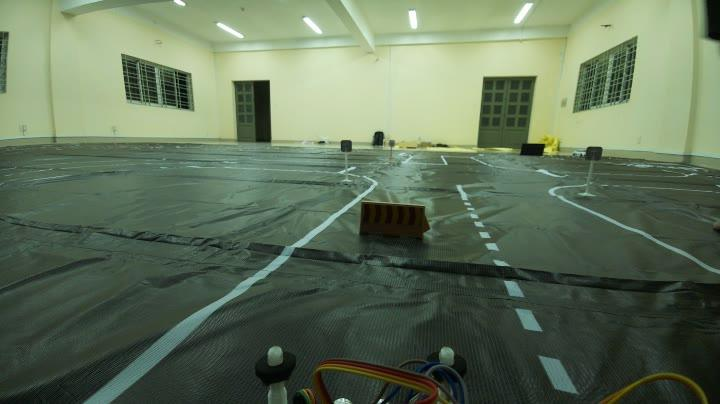roadblock: (347, 192, 451, 256)
